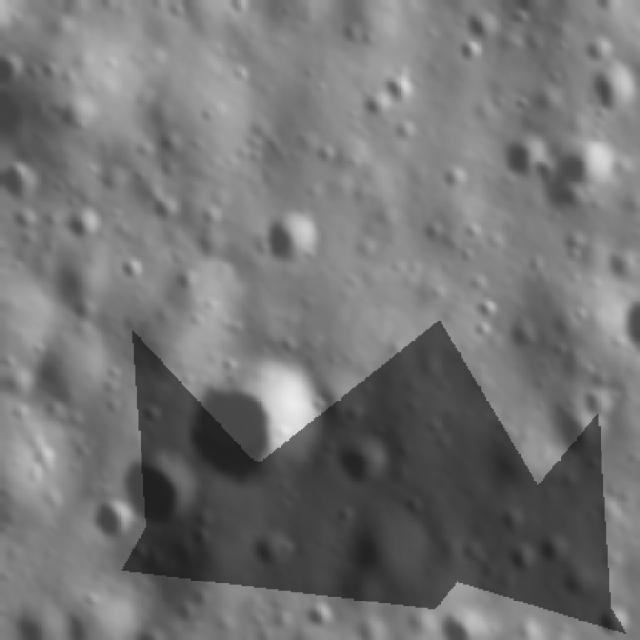crater: (185, 353, 330, 489), (34, 308, 118, 408), (29, 229, 117, 320), (337, 508, 425, 582), (122, 448, 201, 528), (546, 136, 611, 210), (263, 204, 326, 270), (584, 58, 640, 118), (335, 432, 394, 486), (547, 401, 602, 456), (245, 525, 303, 573), (1, 156, 52, 207), (502, 127, 541, 179), (428, 608, 486, 638), (98, 497, 136, 541), (587, 600, 631, 638), (578, 382, 619, 420), (497, 538, 540, 574), (383, 65, 422, 104), (64, 202, 104, 240), (580, 30, 618, 65), (356, 87, 387, 124), (537, 529, 566, 568), (470, 286, 501, 319), (561, 559, 588, 596), (499, 502, 526, 536), (454, 32, 486, 60), (137, 398, 161, 428)
